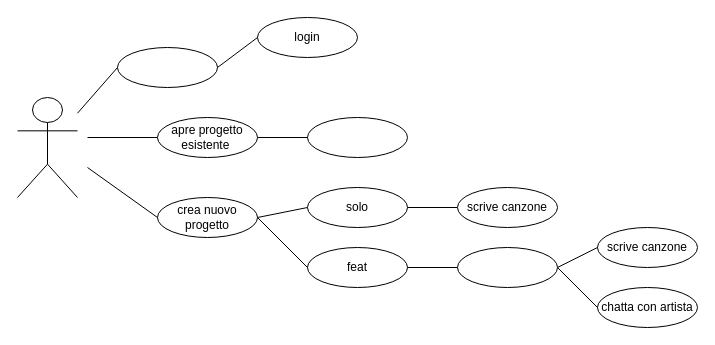
This 715x345 diagram has some shape labels left out. Here are the shapes that lost their labels. From the top down, the box of each, then its label:
(116, 46, 218, 88): registra
(16, 96, 78, 198): utente
(306, 116, 408, 158): modifica progetto
(456, 246, 558, 288): manda rischiesta feat
